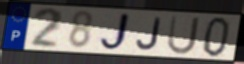0: (201, 16, 232, 58)
2: (29, 7, 64, 49)
8: (67, 10, 96, 51)
J: (98, 11, 132, 53), (135, 16, 163, 51)
U: (166, 14, 202, 56)
